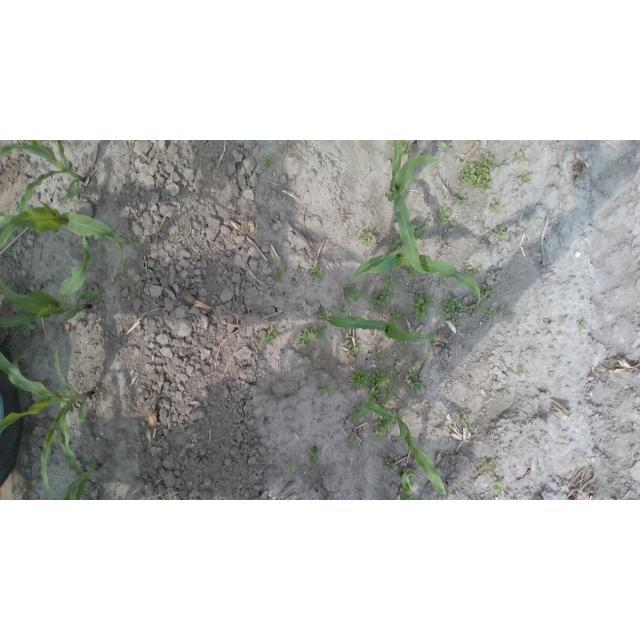Maize: (1, 349, 97, 491), (2, 235, 102, 328), (0, 205, 124, 276), (358, 399, 447, 497), (353, 249, 484, 303), (0, 140, 88, 218), (387, 141, 430, 275), (56, 406, 104, 499), (322, 313, 437, 345), (397, 471, 418, 499)
Weeds: (351, 368, 400, 411), (472, 287, 509, 320), (459, 154, 494, 188), (393, 220, 425, 252), (374, 411, 403, 441), (369, 276, 395, 309), (440, 296, 470, 321), (296, 323, 325, 347), (401, 368, 426, 394), (347, 414, 360, 451), (414, 296, 433, 320), (435, 208, 457, 228), (450, 194, 479, 208), (342, 283, 362, 303), (472, 462, 493, 476), (462, 262, 483, 276), (259, 328, 277, 344), (360, 231, 375, 247), (380, 458, 396, 473), (316, 383, 332, 397), (283, 462, 298, 475), (519, 170, 532, 184), (307, 266, 322, 278), (309, 448, 320, 464), (497, 226, 508, 241), (494, 478, 505, 492), (263, 155, 274, 169), (348, 342, 359, 356), (459, 413, 468, 430), (437, 142, 453, 151), (272, 269, 285, 280), (488, 200, 499, 213), (523, 213, 534, 224), (515, 149, 525, 161), (577, 318, 585, 332), (389, 309, 400, 318), (517, 363, 525, 374)
